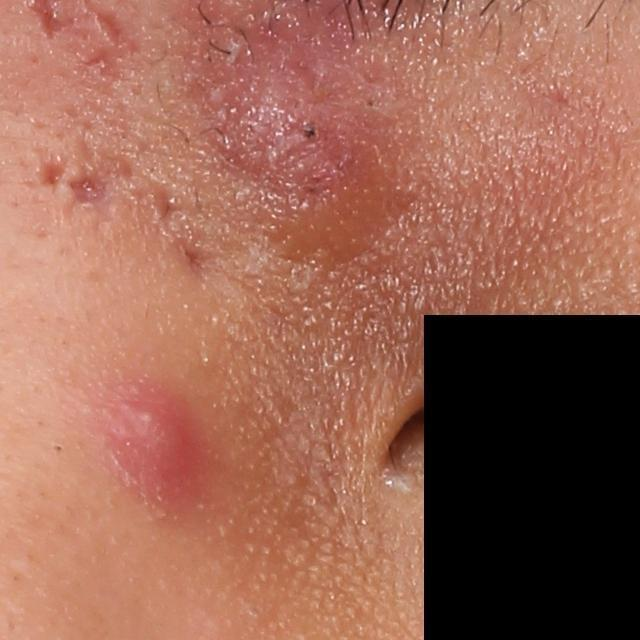atrophic_scar: (147, 175, 188, 239), (66, 166, 119, 208), (31, 155, 73, 191)
papule: (106, 365, 204, 504)
